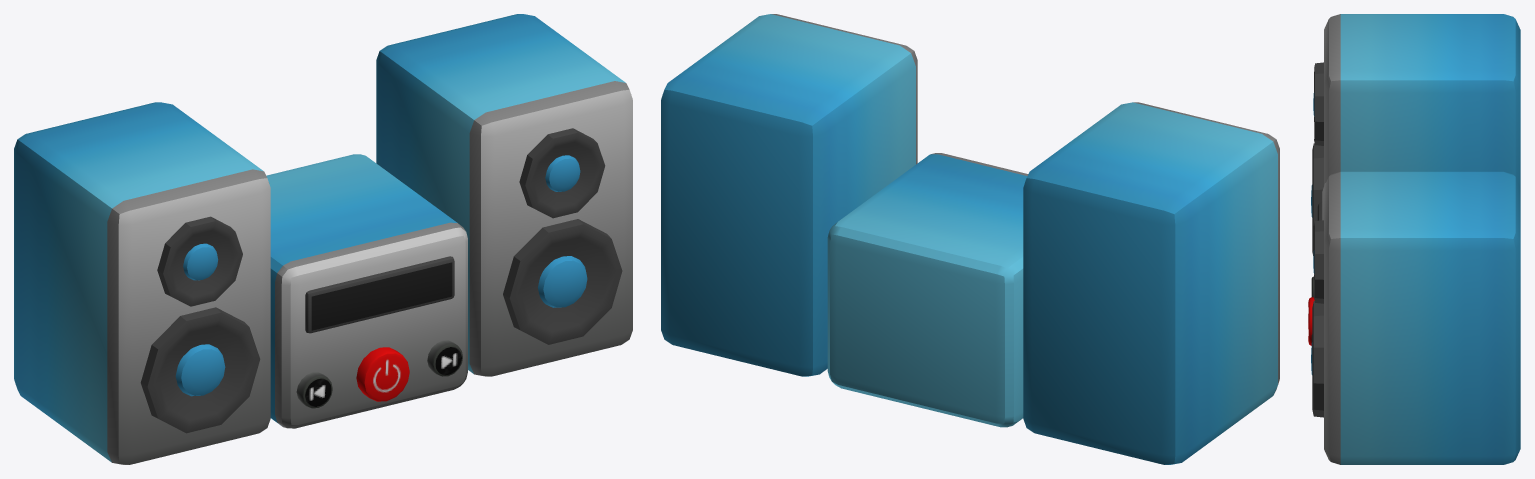
File: Speakers.fbx
3 renders of one model, left to right at view 1: azimuth 30°, elevation 25°; view 2: azimuth 150°, elevation 25°; view 3: azimuth 270°, elevation 25°, orthographic. The views are drawn at different scales.
Parts seen in each view (by area): view 1: Speakers; view 2: Speakers; view 3: Speakers.
Boxes of the visible parts, <box> form: Speakers: <box>14,14,632,464</box>; Speakers: <box>661,14,1279,464</box>; Speakers: <box>1308,14,1520,464</box>.
Size of the model in its own units: 78.09 by 37.95 by 30.67.
